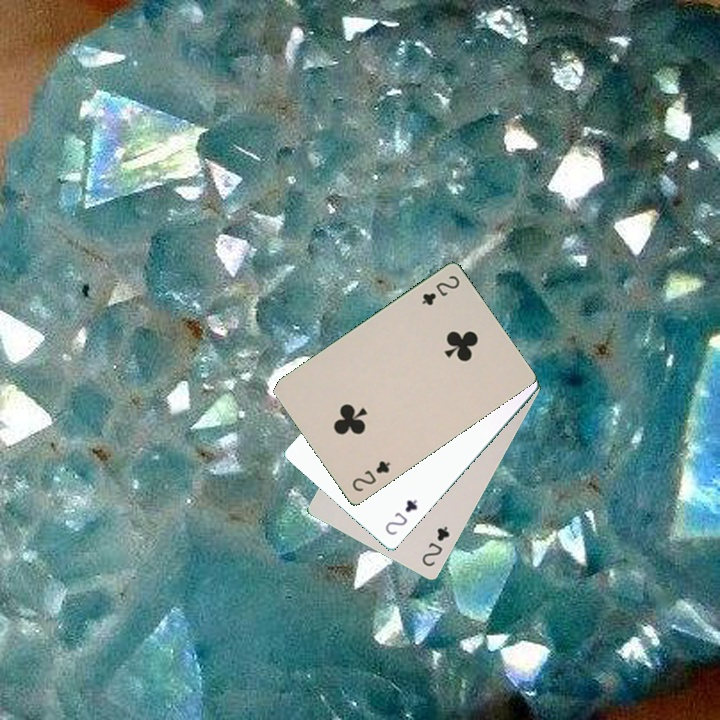2c: (381, 495, 420, 538), (348, 457, 393, 494), (418, 271, 462, 308), (418, 522, 452, 569)
